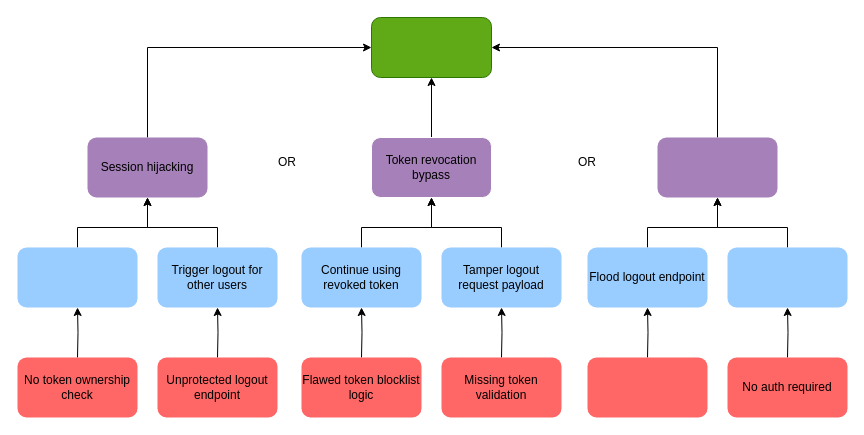
The diagram is 864 pixels wide and 435 high, and some of its shapes have lost their labels. Each missing label, with the centre of its shape:
"Abuse logout endpoint" belongs at point 431,47.
"DoS / forced logout" belongs at point 717,167.
"Force logouts" belongs at point 787,277.
"No rate limit on logout" belongs at point 647,387.
"Reuse stolen JWT token" belongs at point 77,277.
